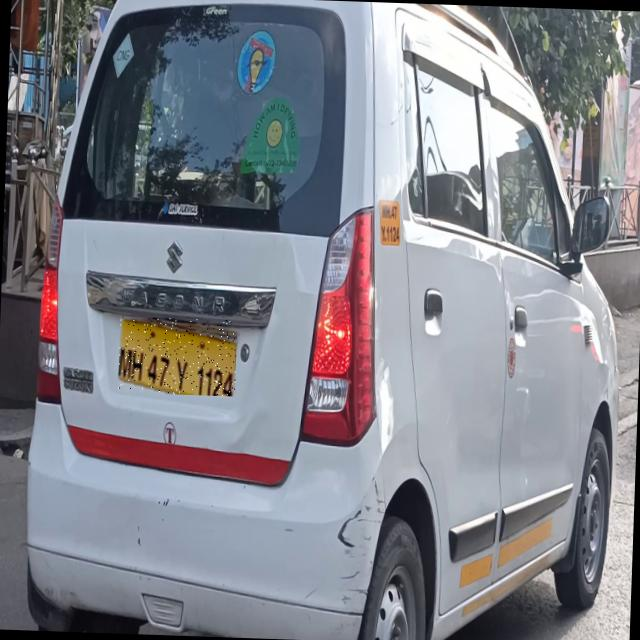Plate: (118, 317, 238, 397)
